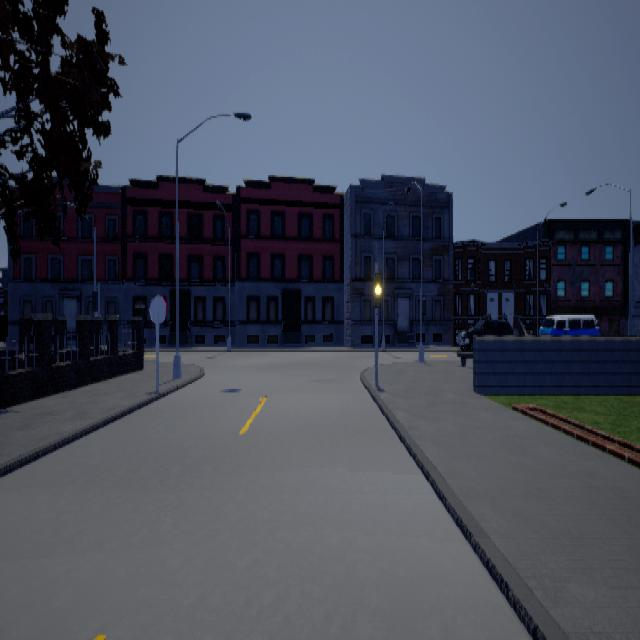vehicle: (455, 317, 513, 350), (538, 314, 599, 334)
yellow_light: (373, 264, 380, 314)
